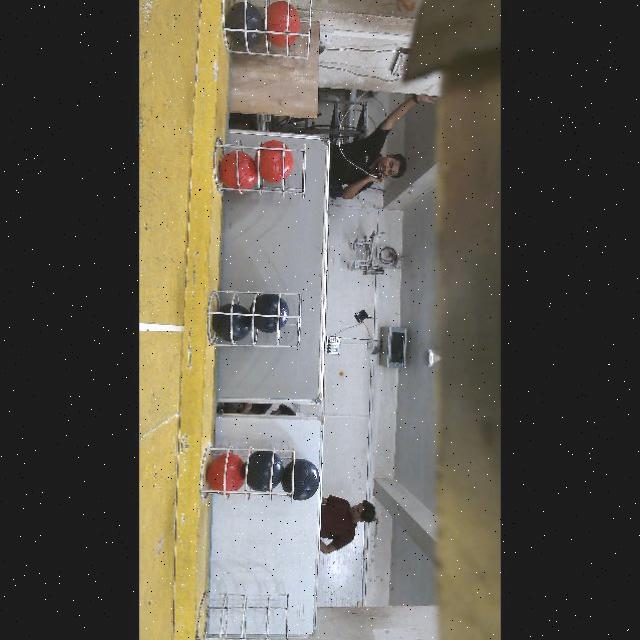P: (226, 3, 263, 49), (279, 458, 317, 499), (249, 293, 287, 333), (212, 303, 250, 342), (242, 452, 281, 490)
R: (205, 451, 244, 492), (263, 2, 300, 45), (217, 152, 255, 190), (256, 141, 291, 182)
S: (195, 444, 299, 506), (217, 1, 315, 64), (203, 290, 307, 348), (216, 137, 306, 199), (192, 590, 298, 640)
